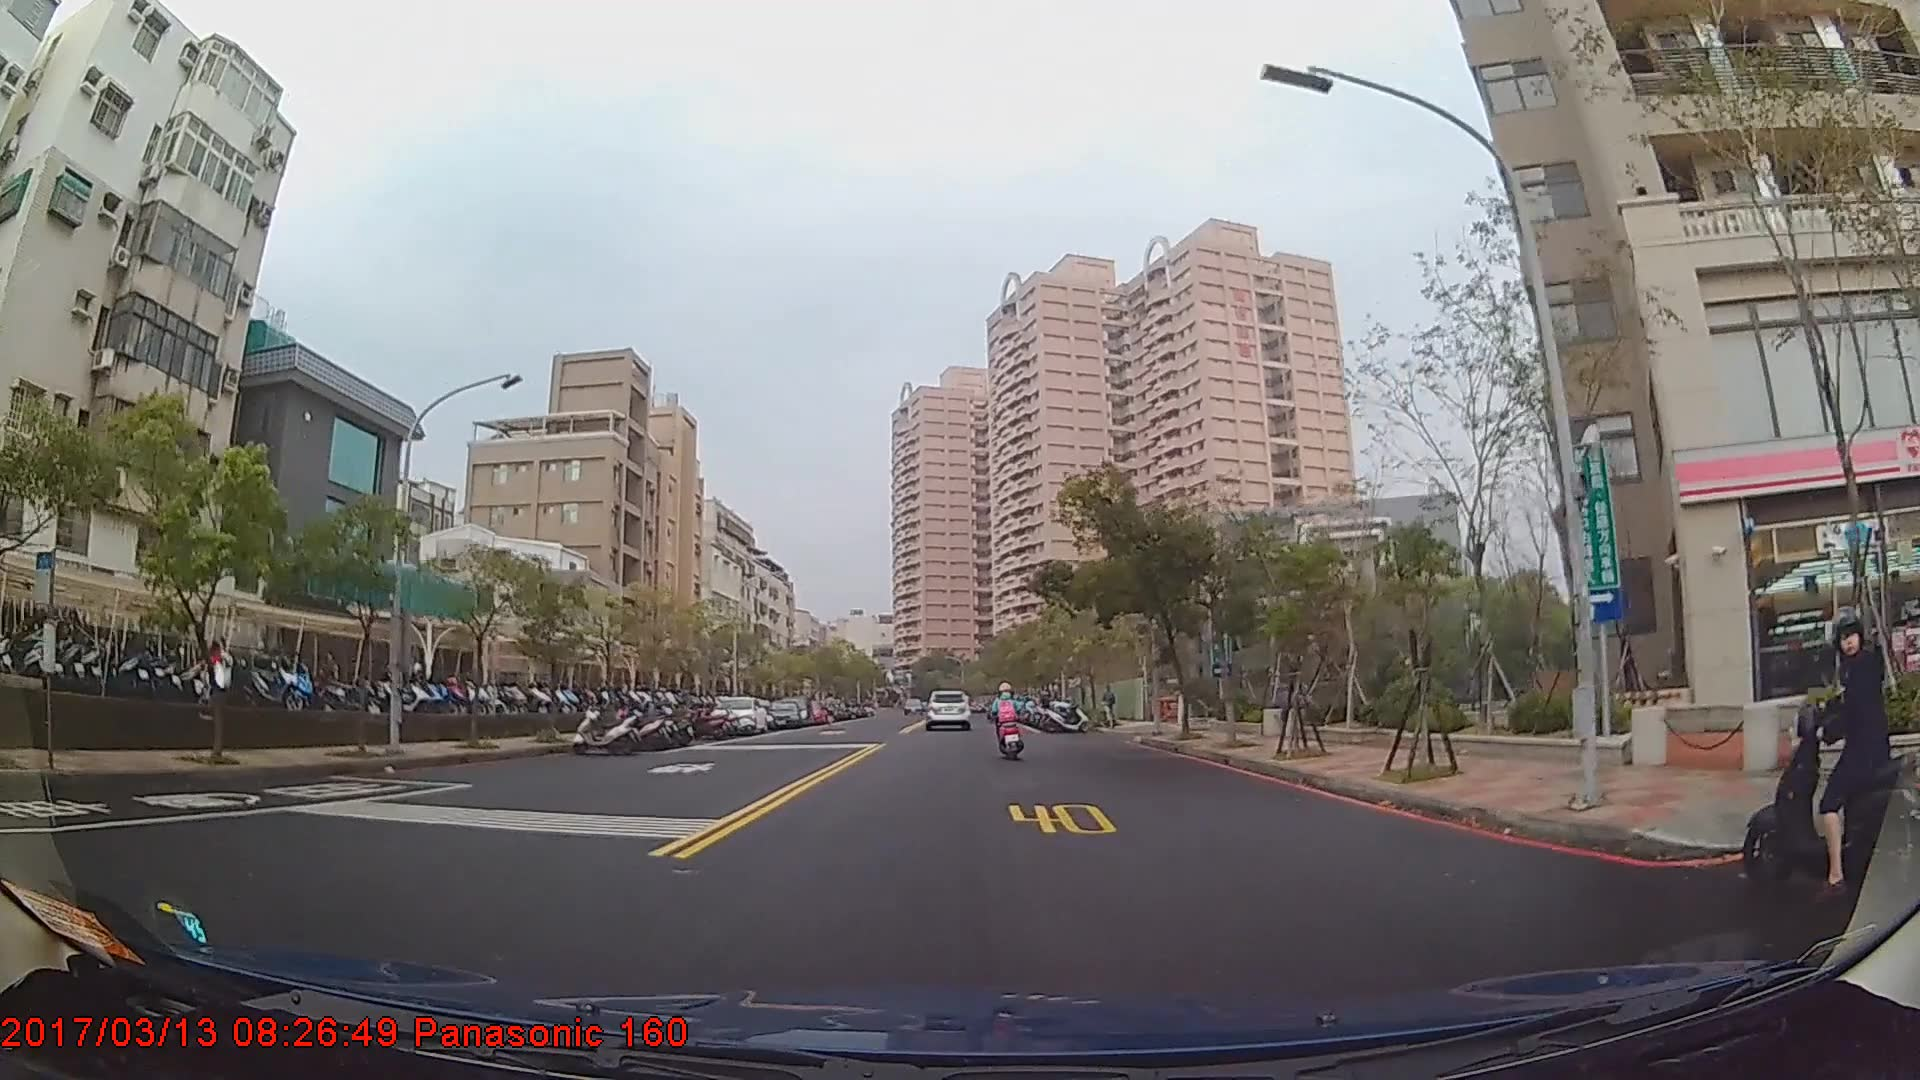rider: (1739, 611, 1904, 890), (991, 683, 1026, 760)
vehicle: (706, 696, 768, 737), (923, 686, 974, 729), (764, 698, 801, 732)
